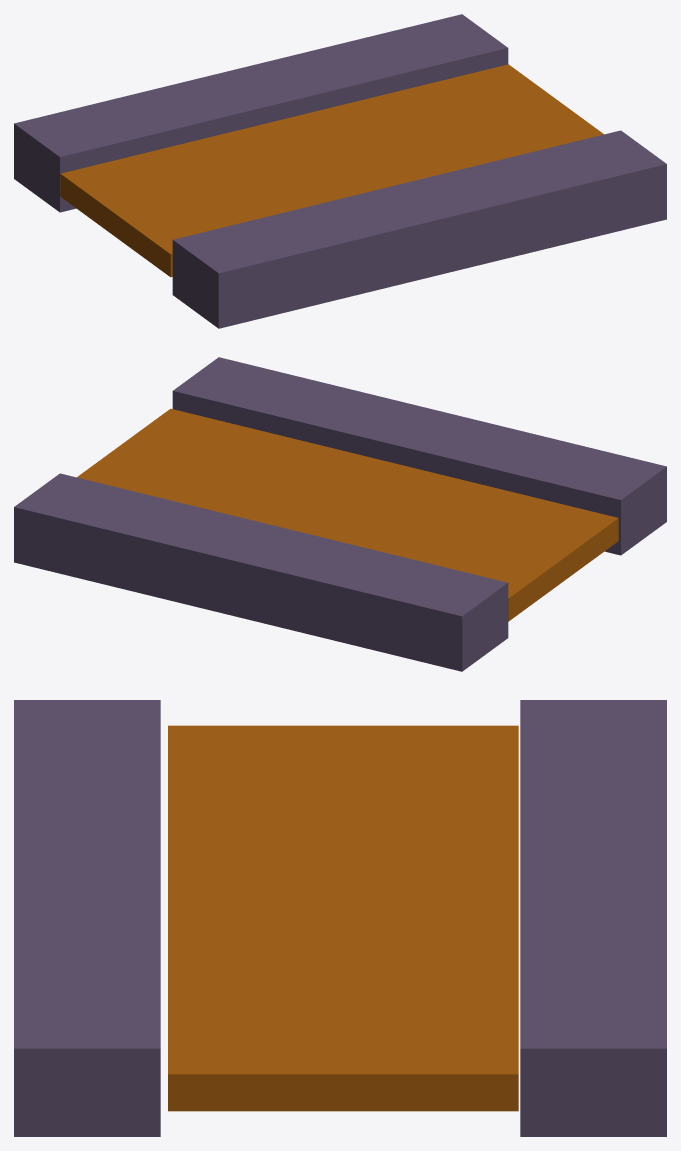
File: SM_Prototype _03.fbx
3 views of the same model, one above another, from view 1: azimuth 30°, elevation 25°; view 2: azimuth 150°, elevation 25°; view 3: azimuth 270°, elevation 25° (orthographic). The views are drawn at different scales.
Visible parts, largest first — view 1: SM_Prototype _03; view 2: SM_Prototype _03; view 3: SM_Prototype _03.
Boxes of the visible parts, left/top/right/bottom form: SM_Prototype _03: left=14, top=14, right=666, bottom=328; SM_Prototype _03: left=14, top=357, right=666, bottom=671; SM_Prototype _03: left=14, top=700, right=666, bottom=1136.
Bounding box in the file's own units: 6.64 × 0.7849 × 5.26.
